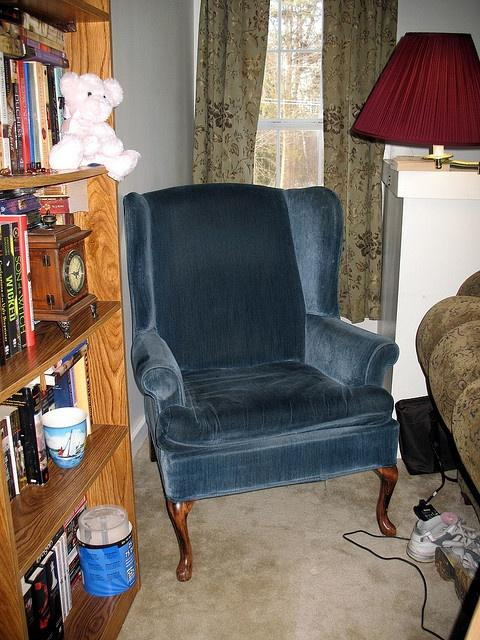Rak: (0, 0, 139, 638)
